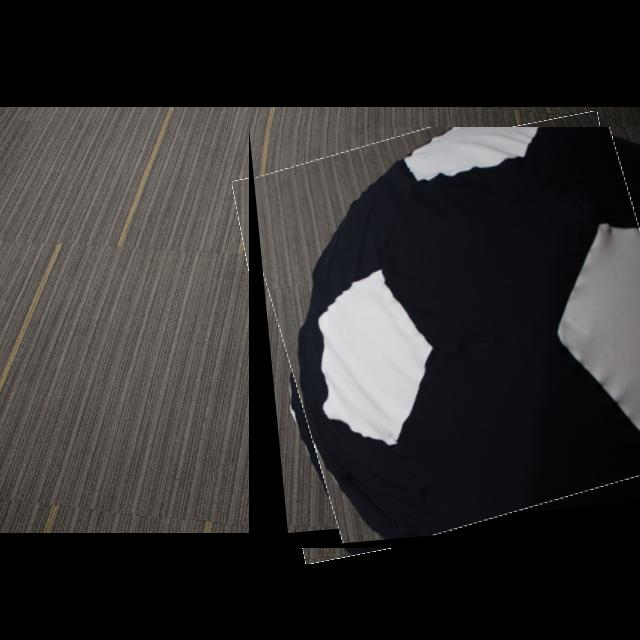Football: (249, 127, 640, 548)
